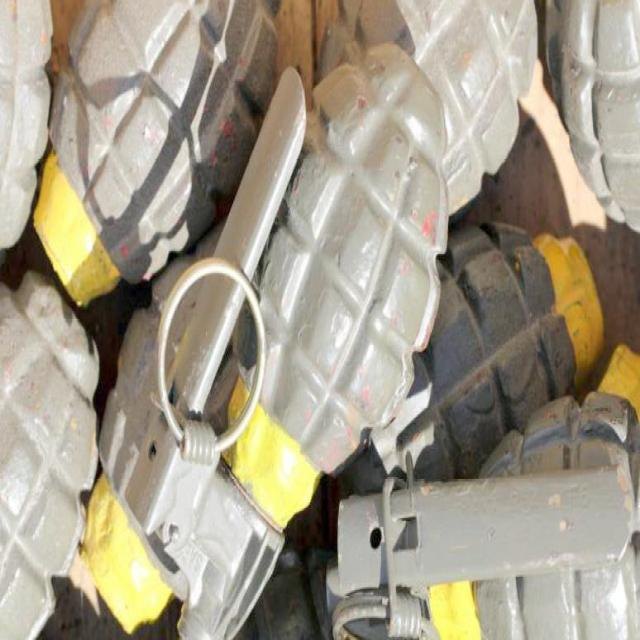grenade: (150, 38, 447, 640), (326, 387, 640, 640), (39, 3, 270, 310), (85, 223, 241, 634), (373, 227, 606, 480), (316, 3, 537, 221), (1, 270, 100, 640), (535, 1, 640, 239), (2, 3, 53, 248)
